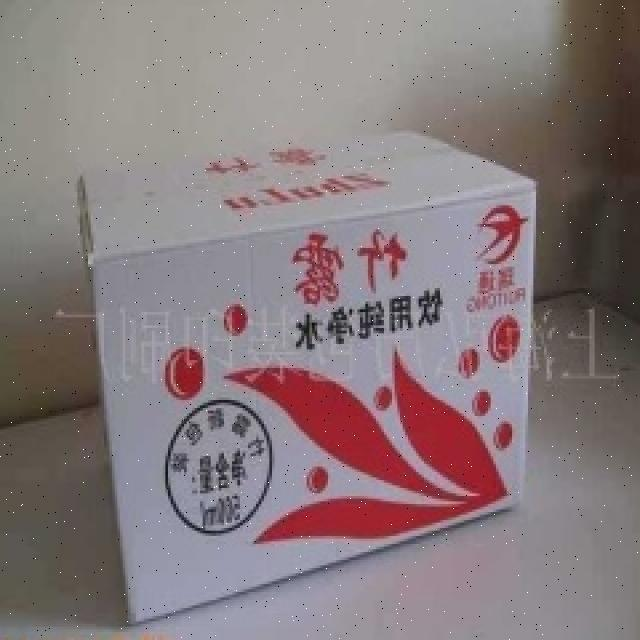box: (82, 112, 551, 604)
